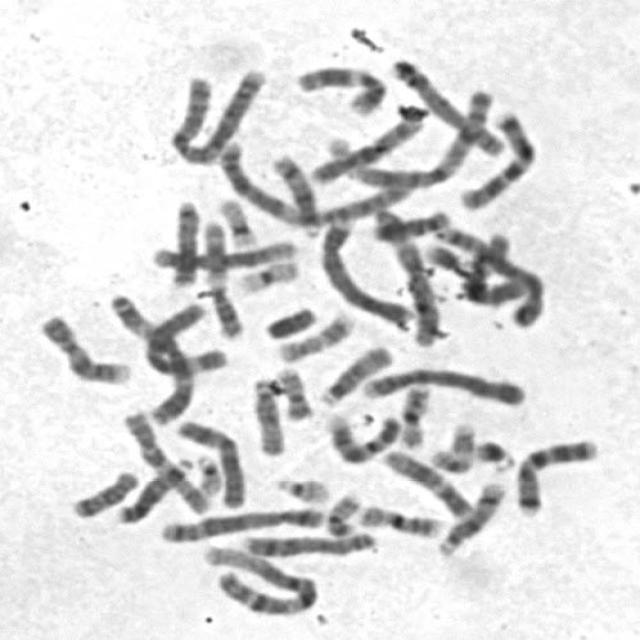A1: (304, 84, 503, 190), (197, 538, 321, 619)
A2: (212, 138, 407, 228), (162, 62, 271, 166)
A3: (104, 289, 201, 427), (367, 203, 446, 349)
B4: (316, 210, 419, 328), (356, 362, 529, 408)
B5: (427, 220, 550, 330), (154, 501, 328, 545)
C10: (118, 406, 215, 516), (307, 113, 427, 187)
C11: (198, 215, 247, 341), (290, 58, 390, 118)
C12: (376, 443, 476, 520), (149, 234, 300, 273)
C6: (140, 296, 229, 376), (455, 235, 532, 307)
C7: (451, 103, 542, 213), (512, 432, 602, 518)
C8: (383, 54, 506, 160), (236, 526, 383, 558)
C9: (33, 309, 135, 386), (322, 408, 402, 466)
D13: (112, 452, 195, 526), (166, 194, 203, 288)
D14: (433, 476, 509, 558), (266, 149, 324, 238)
D15: (312, 338, 396, 407), (246, 372, 289, 458)
E16: (353, 499, 446, 539), (394, 378, 434, 451)
E17: (272, 306, 358, 364), (426, 418, 480, 476)
E18: (67, 466, 141, 520), (367, 204, 455, 242)
F19: (231, 253, 302, 296), (212, 193, 261, 250)
F20: (270, 361, 316, 422), (320, 487, 364, 538)
G21: (469, 433, 519, 473), (418, 238, 469, 276)
G22: (268, 470, 333, 505), (189, 448, 225, 497)
X: (173, 414, 250, 510)
Y: (260, 301, 318, 341)
